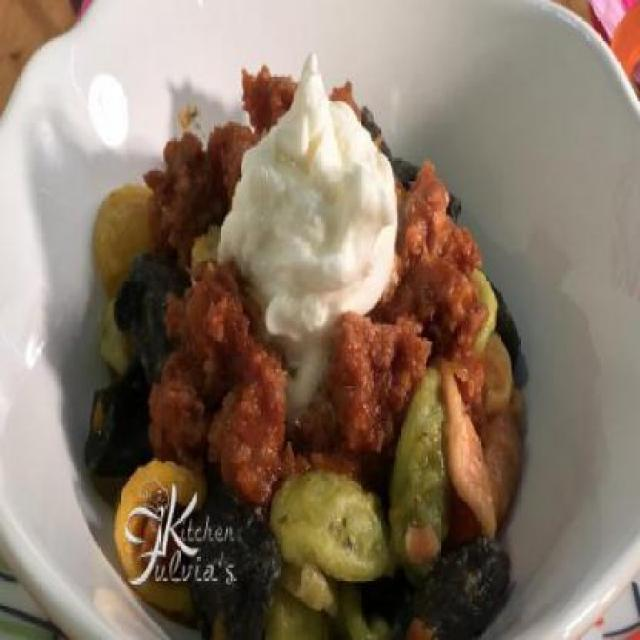Pasta al ragu: (78, 49, 552, 506)
